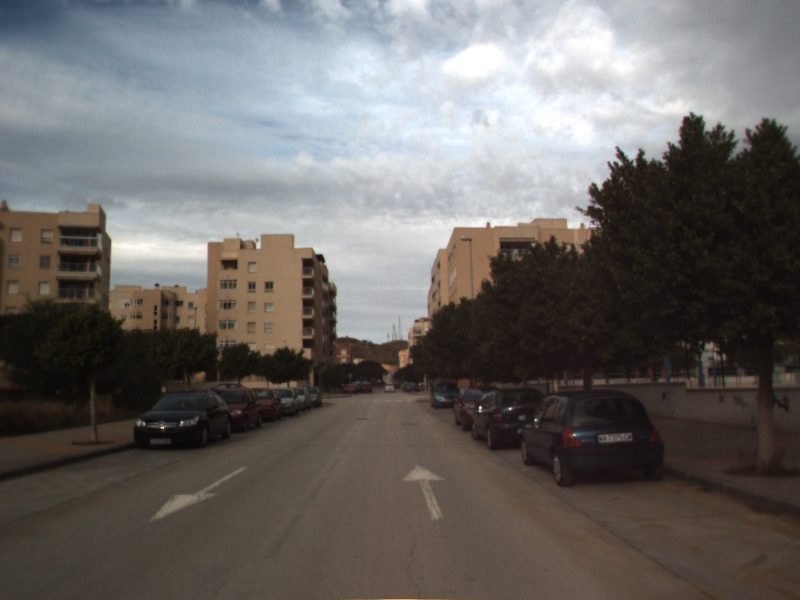STRAIGHT: (400, 462, 448, 522)
